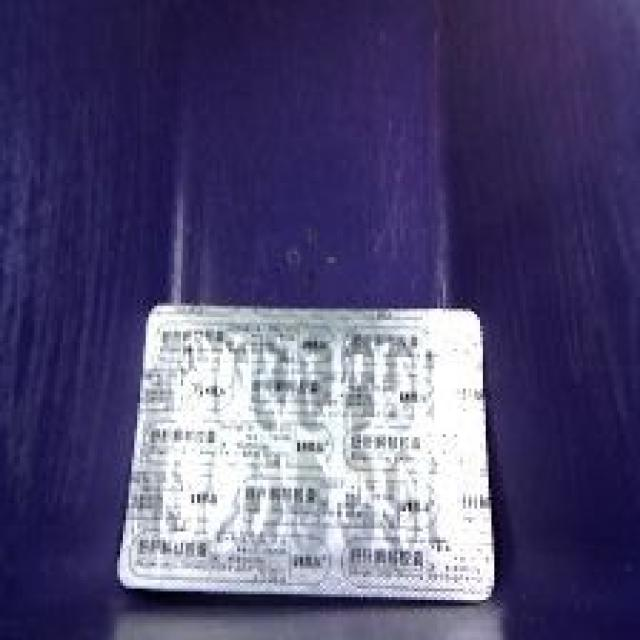med_plate: (97, 282, 513, 614)
